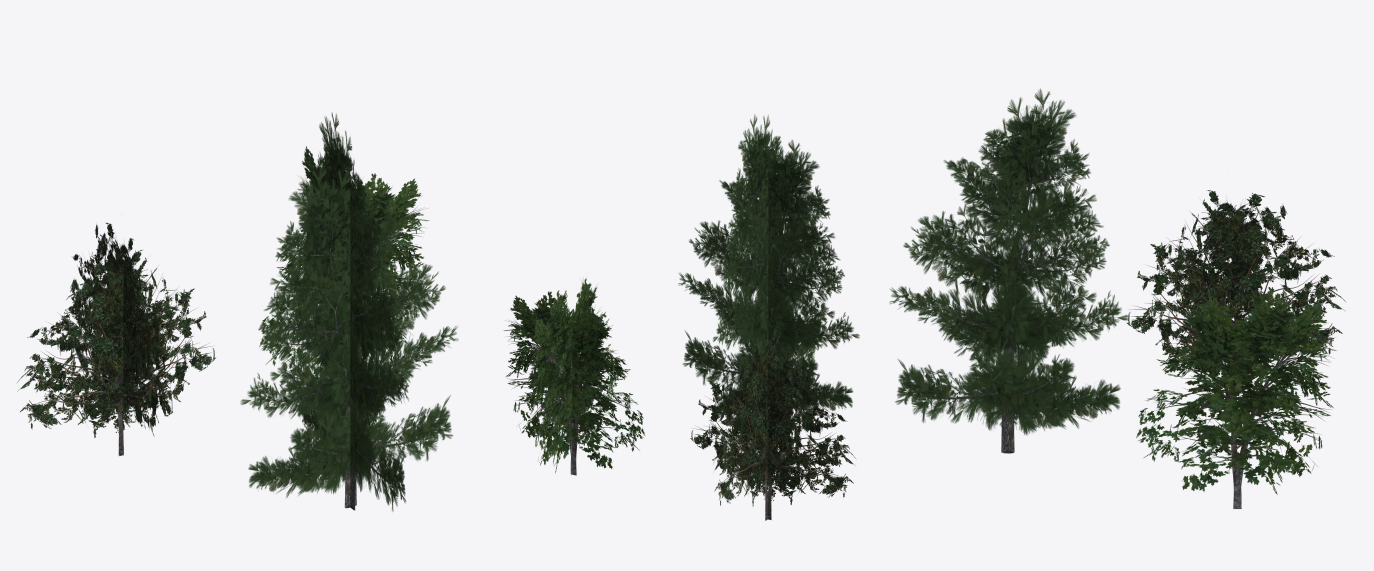
The model's file is lodbillboard_summer_trees_pack.glb.
3 renders of one model, left to right at view 1: azimuth 30°, elevation 25°; view 2: azimuth 150°, elevation 25°; view 3: azimuth 270°, elevation 25°, orthographic. The views are drawn at different scales.
Parts seen in each view (by area): view 1: PineBillboard, Crabapple, MapleFall; view 2: PineBillboard, MapleFall, Crabapple; view 3: PineBillboard, MapleFall, Crabapple.
Part boxes in pixels (x1=…): PineBillboard: x1=240, y1=113, x2=458, y2=511; Crabapple: x1=16, y1=222, x2=215, y2=455; MapleFall: x1=259, y1=146, x2=429, y2=383; PineBillboard: x1=678, y1=114, x2=859, y2=416; MapleFall: x1=503, y1=278, x2=645, y2=475; Crabapple: x1=690, y1=326, x2=856, y2=520; PineBillboard: x1=889, y1=88, x2=1129, y2=453; MapleFall: x1=1136, y1=287, x2=1336, y2=508; Crabapple: x1=1127, y1=190, x2=1345, y2=398.
Bounding box in the file's own units: 23.83 × 23.3 × 23.12.
3 materials, 3 textured.
